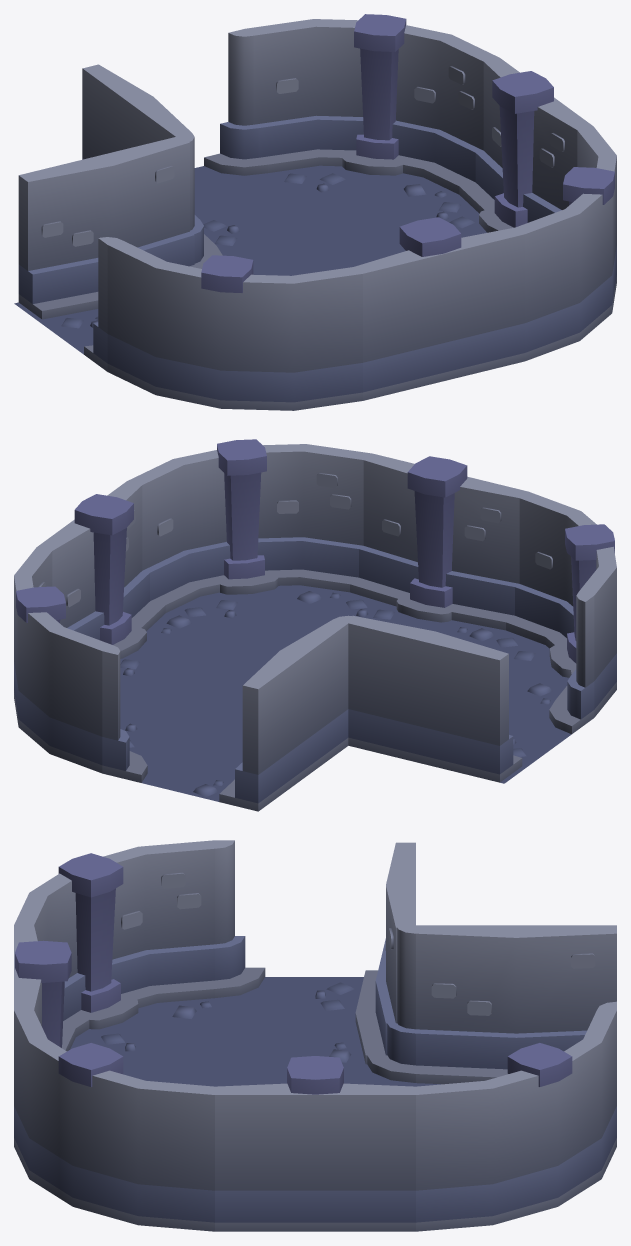
The model's file is room-corner.fbx.
3 renders of one model, top to bottom at view 1: azimuth 30°, elevation 25°; view 2: azimuth 150°, elevation 25°; view 3: azimuth 270°, elevation 25°, orthographic. The views are drawn at different scales.
Visible parts, largest first — view 1: room-corner; view 2: room-corner; view 3: room-corner.
Part boxes in pixels (bbox=[...]): room-corner: bbox=[14, 14, 616, 410]; room-corner: bbox=[14, 439, 616, 811]; room-corner: bbox=[14, 840, 616, 1231].
Bounding box in the file's own units: 1200 × 333 × 1200.
1 material, 1 textured.
